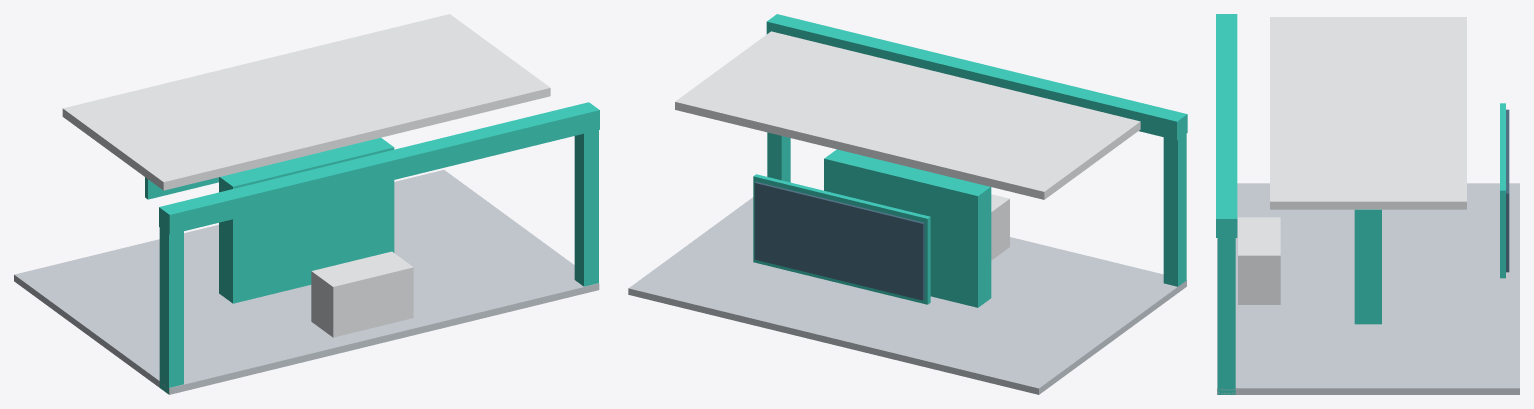
The picture shows the model from 3 angles, left to right: view 1: azimuth 30°, elevation 25°; view 2: azimuth 150°, elevation 25°; view 3: azimuth 270°, elevation 25°; orthographic projection. The views are drawn at different scales.
Visible parts, largest first — view 1: Exhibition Booth Concept; view 2: Exhibition Booth Concept; view 3: Exhibition Booth Concept.
Part boxes in pixels (x1,y1,x2,y2): Exhibition Booth Concept: (14, 14, 599, 394); Exhibition Booth Concept: (628, 14, 1187, 394); Exhibition Booth Concept: (1216, 14, 1519, 394).
Size of the model in its own units: 8 by 3.34 by 5.02.
